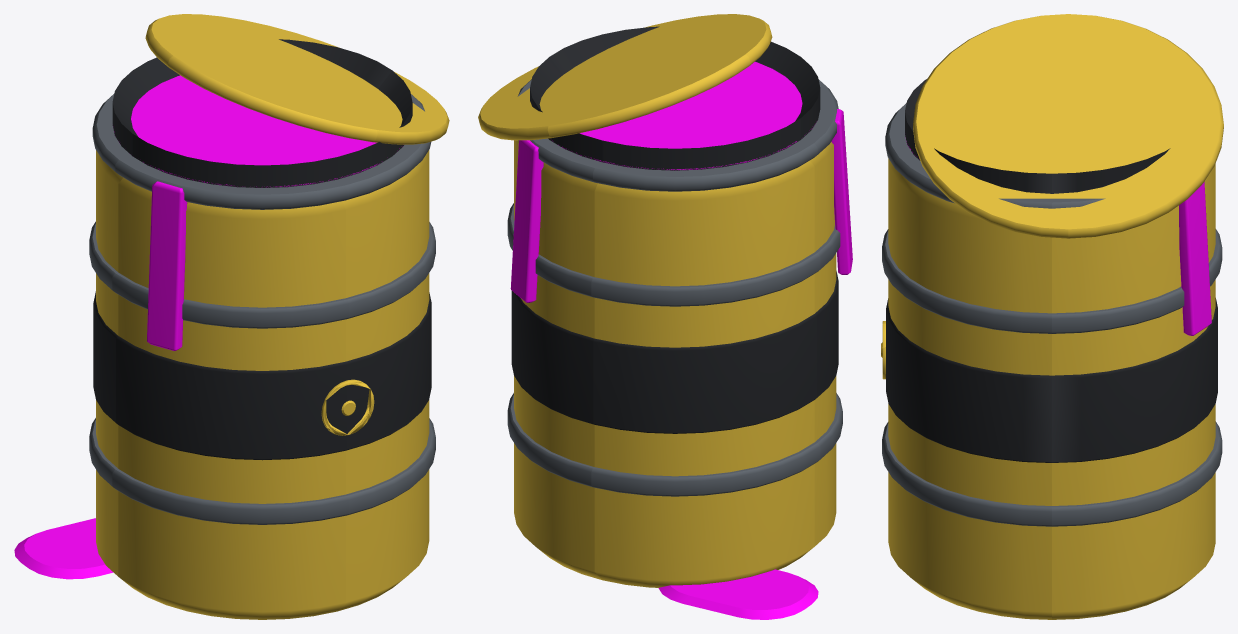
The model's file is objet_dechets_nucleaires.glb.
The picture shows the model from 3 angles, left to right: view 1: azimuth 30°, elevation 25°; view 2: azimuth 150°, elevation 25°; view 3: azimuth 270°, elevation 25°; orthographic projection. The views are drawn at different scales.
Parts seen in each view (by area): view 1: dechets_nucleaire_jaune.002, dechets_symbole_noir.002, dechets_acier_doux_sombre.002, dechets_teinte.002; view 2: dechets_nucleaire_jaune.002, dechets_symbole_noir.002, dechets_acier_doux_sombre.002, dechets_teinte.002; view 3: dechets_nucleaire_jaune.002, dechets_symbole_noir.002, dechets_acier_doux_sombre.002, dechets_teinte.002.
Boxes of the visible parts, bbox=[...] form: dechets_nucleaire_jaune.002: bbox=[96, 14, 449, 619]; dechets_symbole_noir.002: bbox=[93, 39, 431, 460]; dechets_acier_doux_sombre.002: bbox=[89, 94, 435, 524]; dechets_teinte.002: bbox=[14, 75, 399, 579]; dechets_nucleaire_jaune.002: bbox=[478, 14, 836, 587]; dechets_symbole_noir.002: bbox=[511, 26, 838, 433]; dechets_acier_doux_sombre.002: bbox=[507, 79, 842, 496]; dechets_teinte.002: bbox=[510, 61, 852, 619]; dechets_nucleaire_jaune.002: bbox=[881, 14, 1223, 619]; dechets_symbole_noir.002: bbox=[886, 79, 1217, 462]; dechets_acier_doux_sombre.002: bbox=[882, 103, 1222, 526]; dechets_teinte.002: bbox=[905, 137, 1211, 335].
Bounding box in the file's own units: 0.2499 × 0.3406 × 0.2095.
